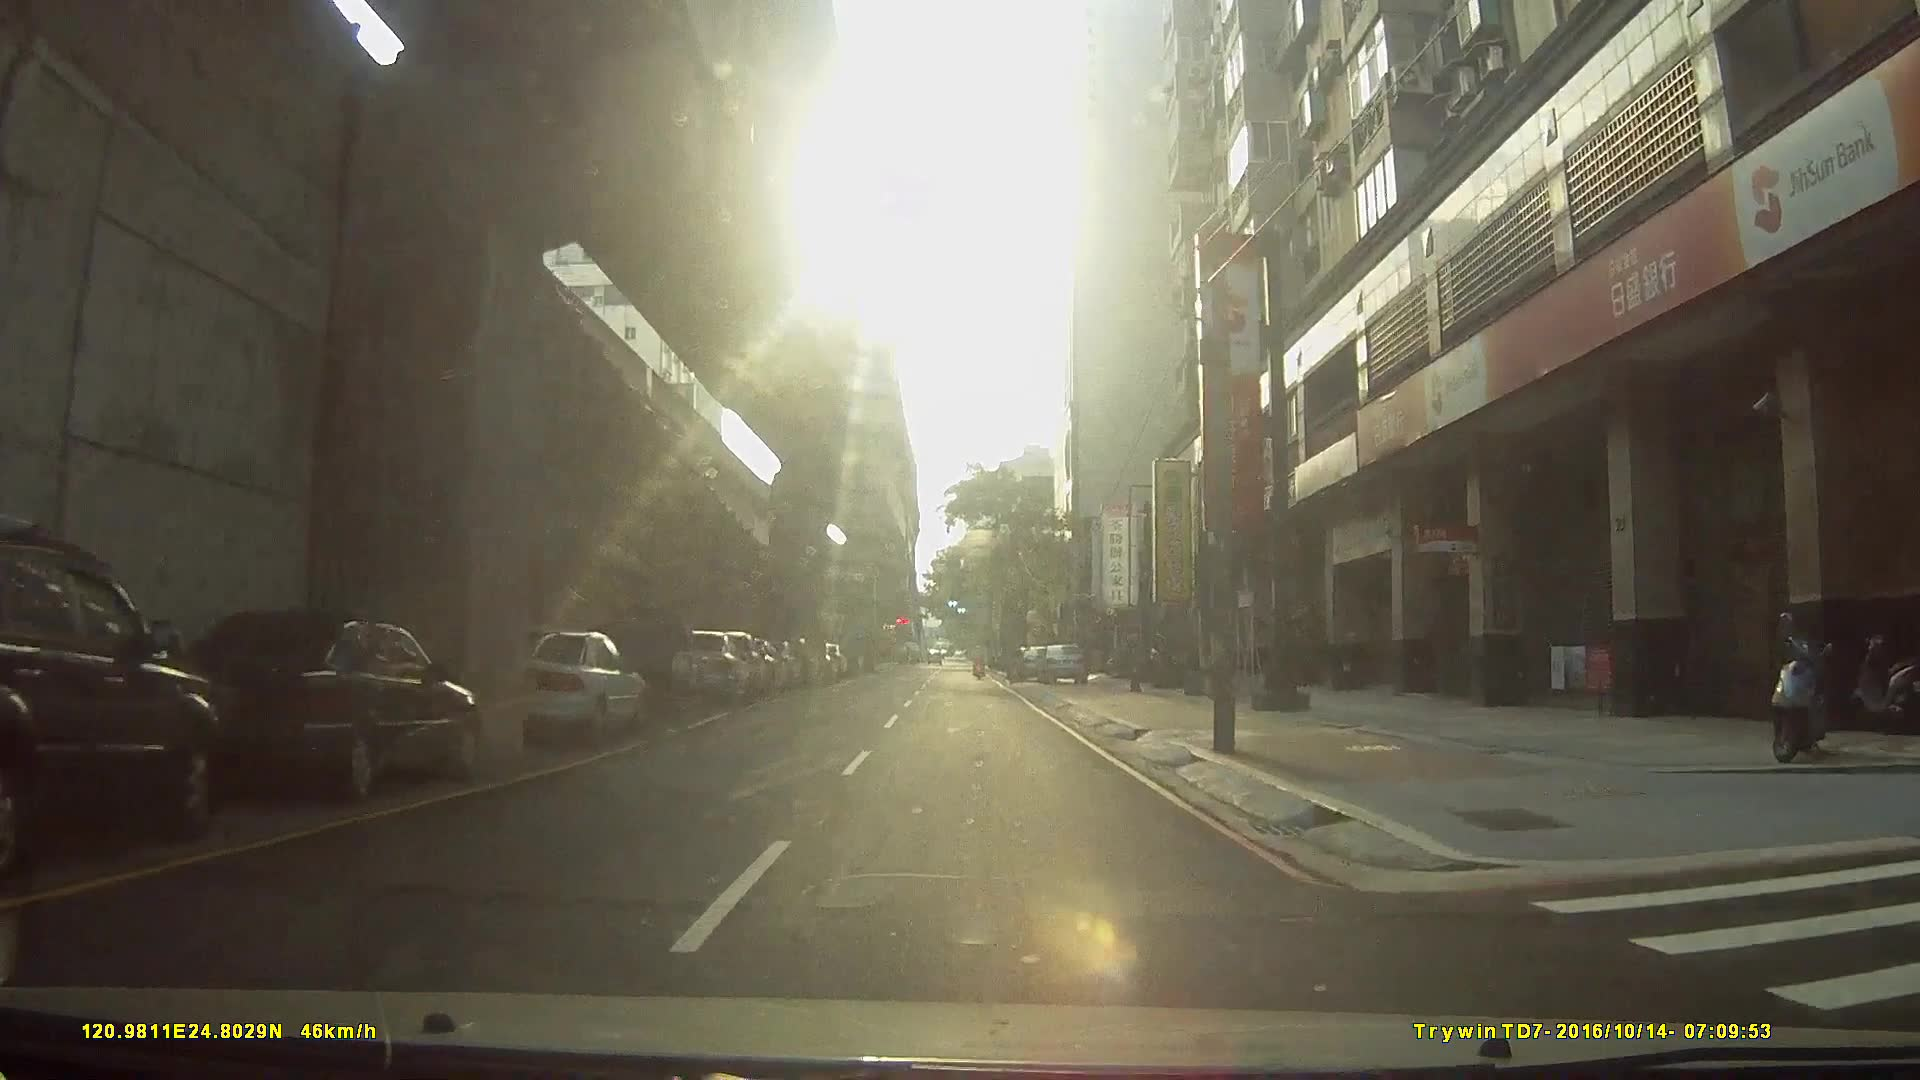vehicle: (0, 520, 225, 889), (140, 604, 487, 807), (488, 618, 647, 741), (575, 609, 703, 711), (659, 620, 794, 670), (1033, 640, 1091, 684)
